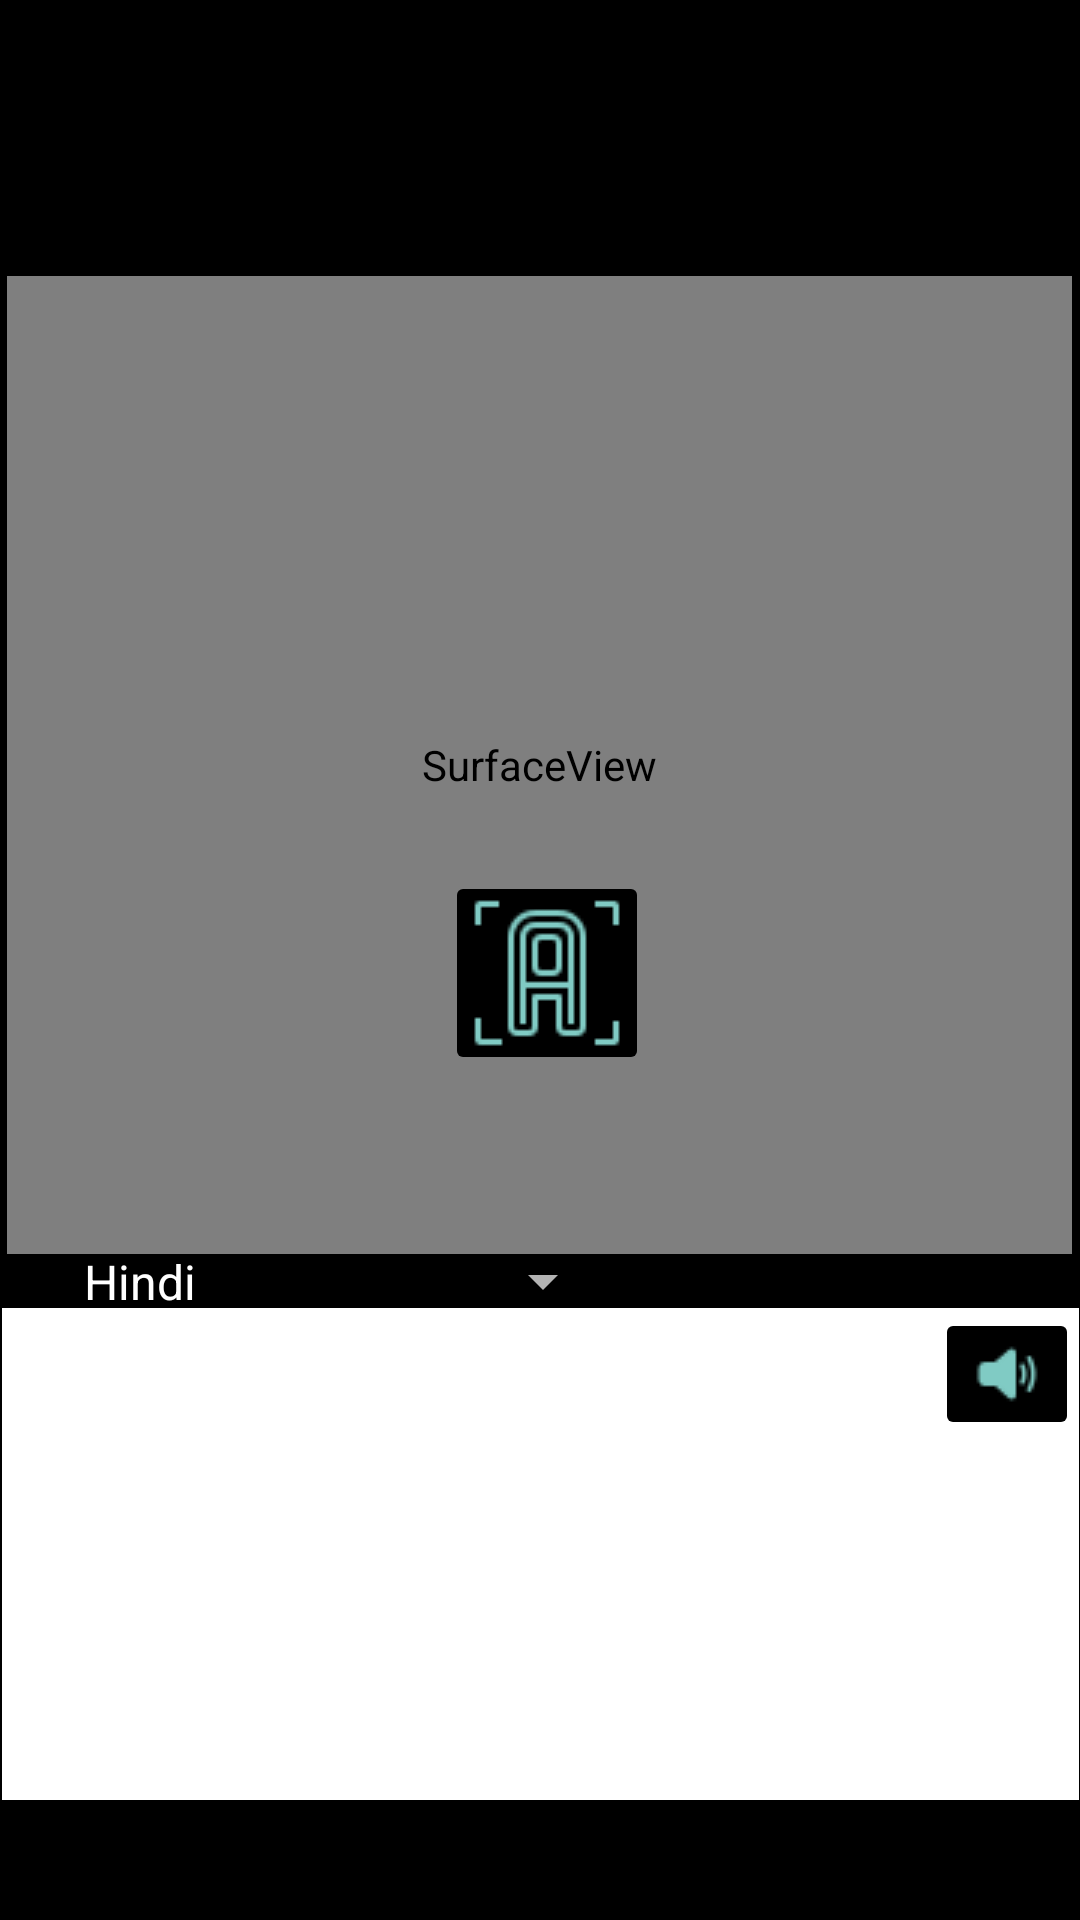

Point at icon controls on the screen. Image size 1080w x 1920h, points as (x,y).
ocr: (547,973)
voice: (1007,1374)
